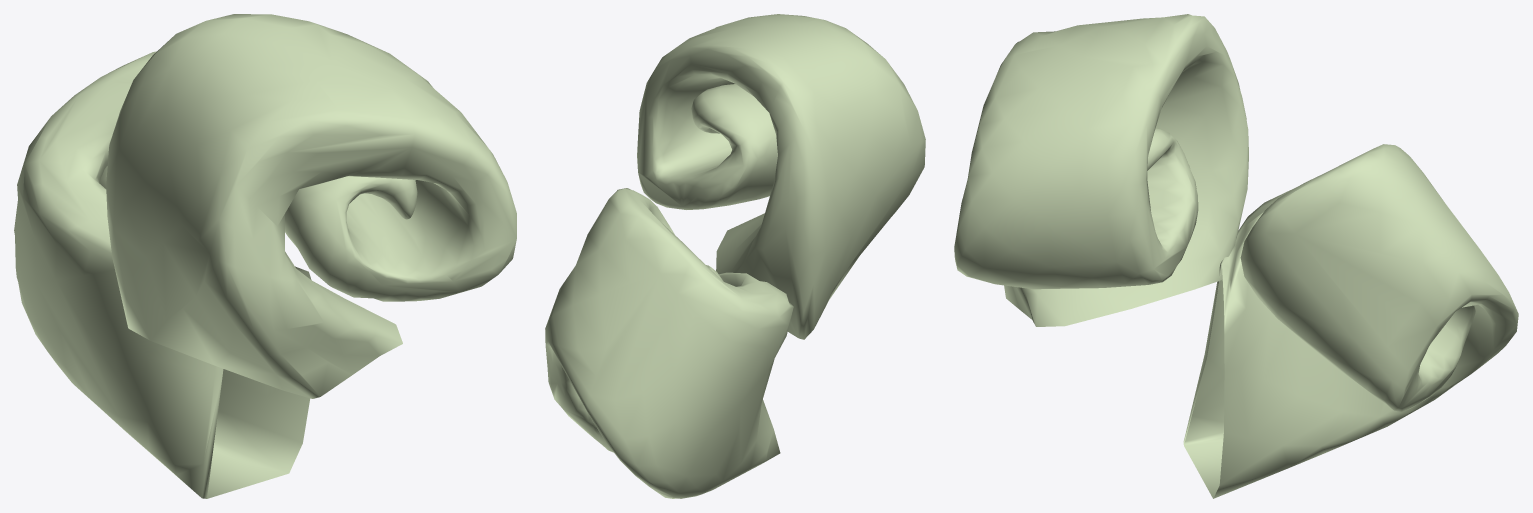
Rendered from Mane_19.fbx.
The picture shows the model from 3 angles, left to right: view 1: azimuth 30°, elevation 25°; view 2: azimuth 150°, elevation 25°; view 3: azimuth 270°, elevation 25°; orthographic projection. The views are drawn at different scales.
Visible parts, largest first — view 1: Mane_19; view 2: Mane_19; view 3: Mane_19.
Boxes of the visible parts, x1=… form: Mane_19: x1=14, y1=14, x2=516, y2=498; Mane_19: x1=545, y1=14, x2=925, y2=498; Mane_19: x1=954, y1=14, x2=1518, y2=498.
Size of the model in its own units: 107 by 174 by 200.
